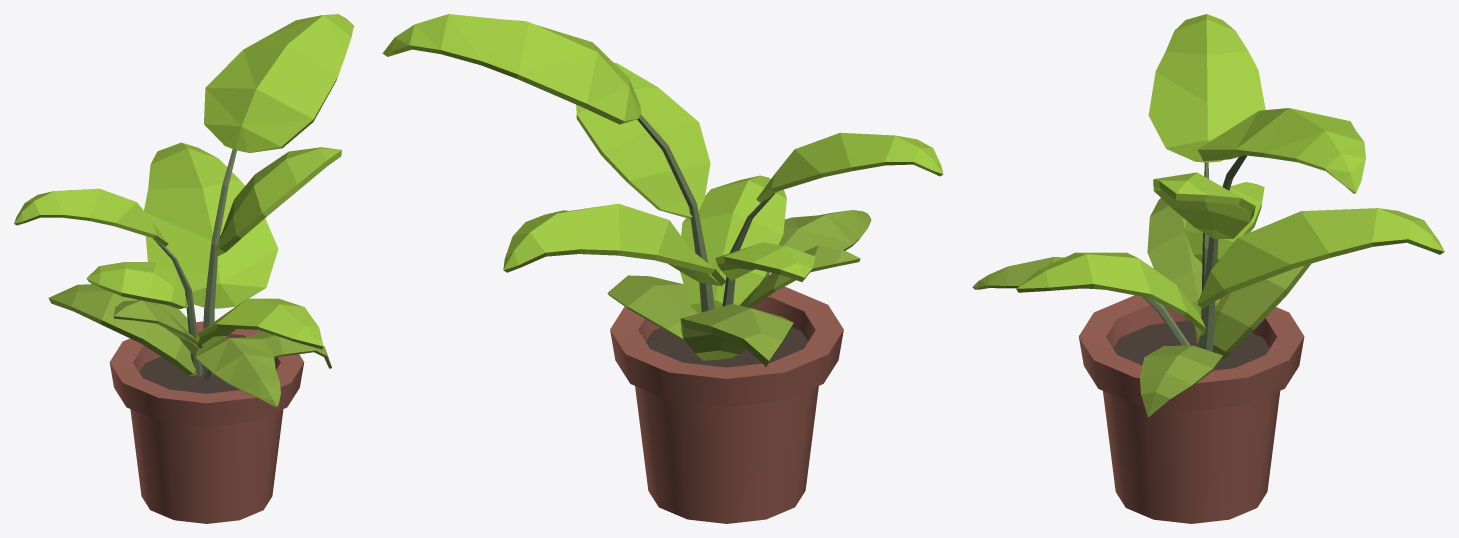
The model's file is Plant 1.fbx.
The picture shows the model from 3 angles, left to right: view 1: azimuth 30°, elevation 25°; view 2: azimuth 150°, elevation 25°; view 3: azimuth 270°, elevation 25°; orthographic projection. The views are drawn at different scales.
Parts seen in each view (by area): view 1: Plane.015; view 2: Plane.015; view 3: Plane.015.
Boxes of the visible parts, x1,y1,x2,y2 form: Plane.015: (14, 14, 353, 523); Plane.015: (382, 14, 943, 523); Plane.015: (972, 14, 1444, 523).
Size of the model in its own units: 865 by 759 by 814.
